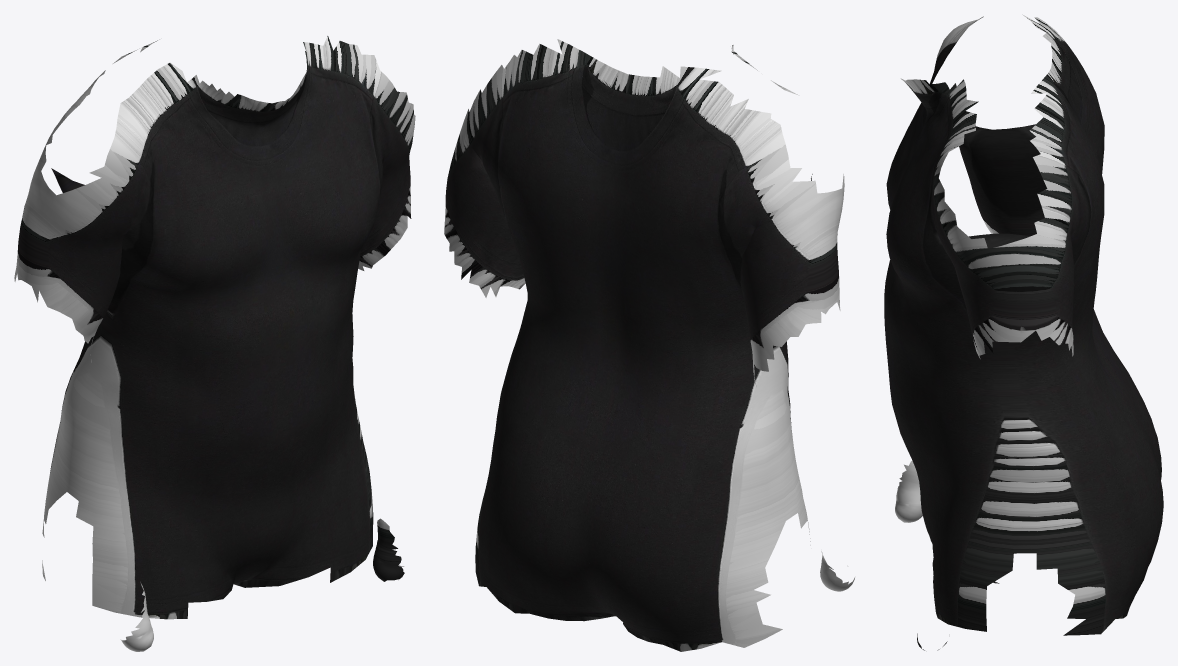
Rendered from prenda_fit_silueta.glb.
3 renders of one model, left to right at view 1: azimuth 30°, elevation 25°; view 2: azimuth 150°, elevation 25°; view 3: azimuth 270°, elevation 25°, orthographic. The views are drawn at different scales.
Visible parts, largest first — view 1: fitted_garment; view 2: fitted_garment; view 3: fitted_garment.
Boxes of the visible parts, box(x1,y1,x2,y2) form: fitted_garment: box(14, 36, 415, 651); fitted_garment: box(444, 39, 854, 651); fitted_garment: box(884, 14, 1163, 650).
Size of the model in its own units: 0.5297 by 0.7315 by 0.3441.
1 material, 1 textured.
